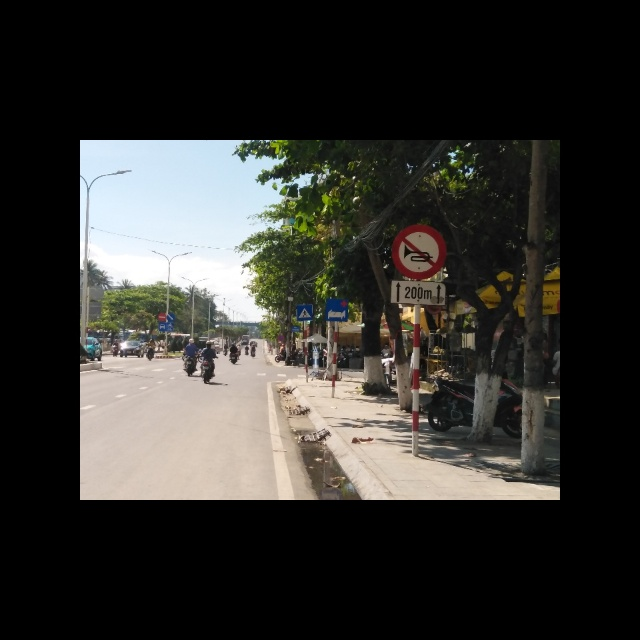Bệnh viện: (326, 298, 347, 322)
Cấm bấm còi: (392, 225, 444, 281)
Đường dành cho người đi bộ: (296, 303, 312, 320)
